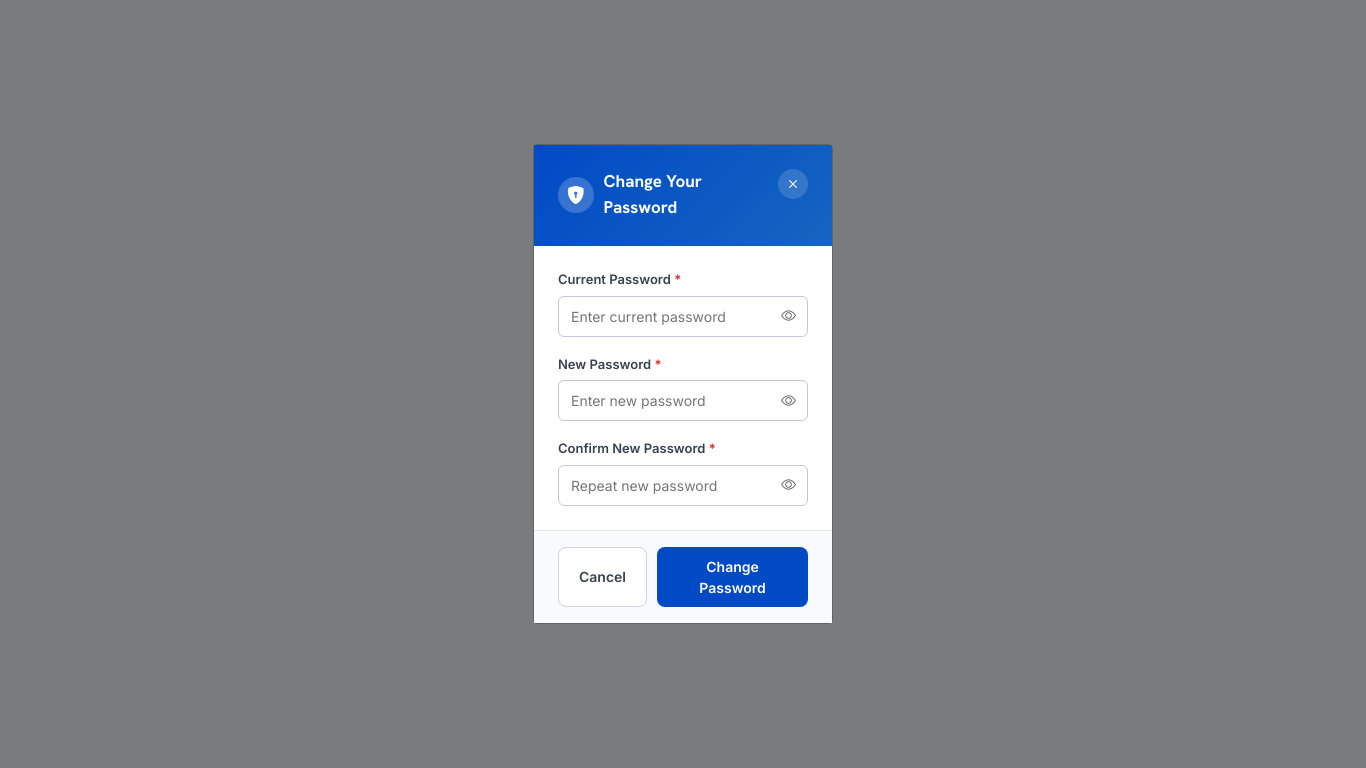
Test: ChangePasswordModal — self service › new password shorter than 6 characters is rejected
Type "old-pass" into the password field with placeholder "Enter current password".
click(683, 316); type("old-pass")  # box [558,296,808,337]
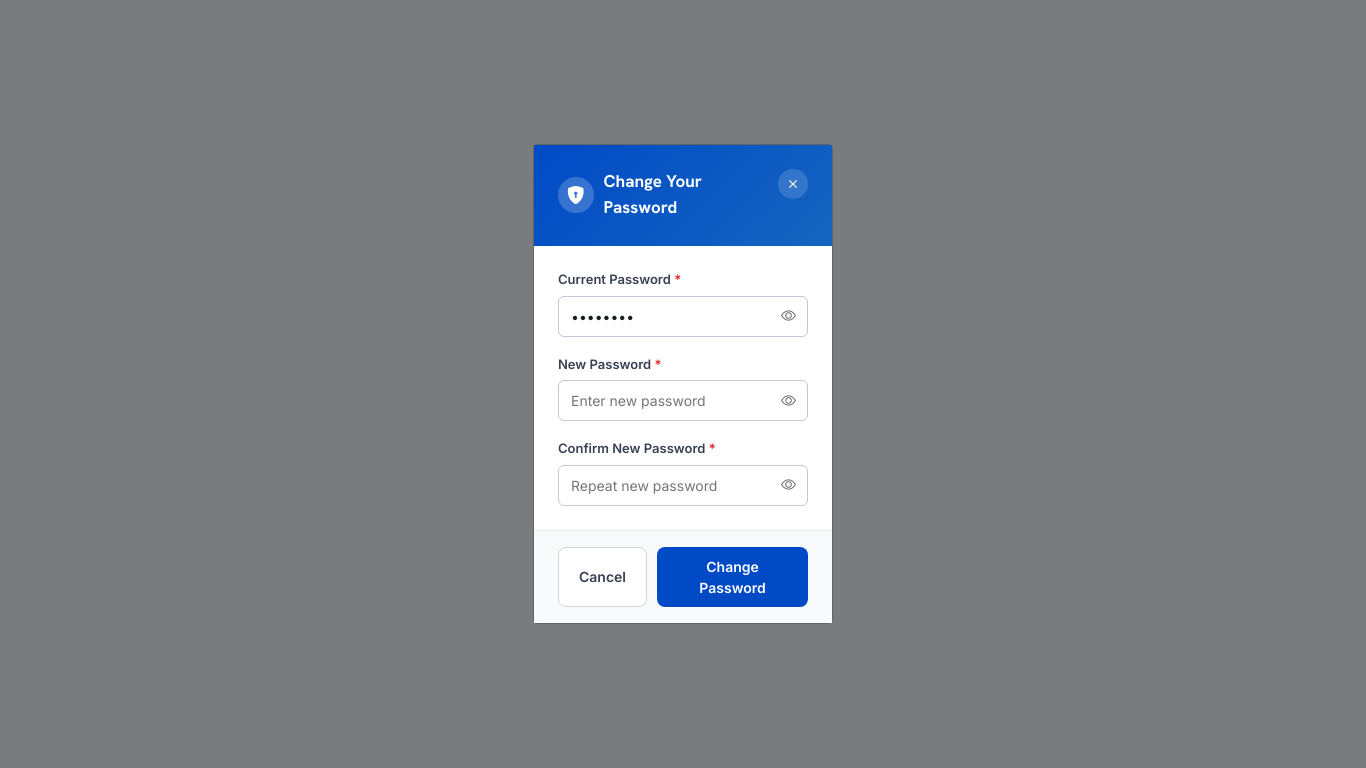
Type "12345" into the password field with placeholder "Enter new password".
click(683, 401); type("12345")  # box [558,380,808,421]
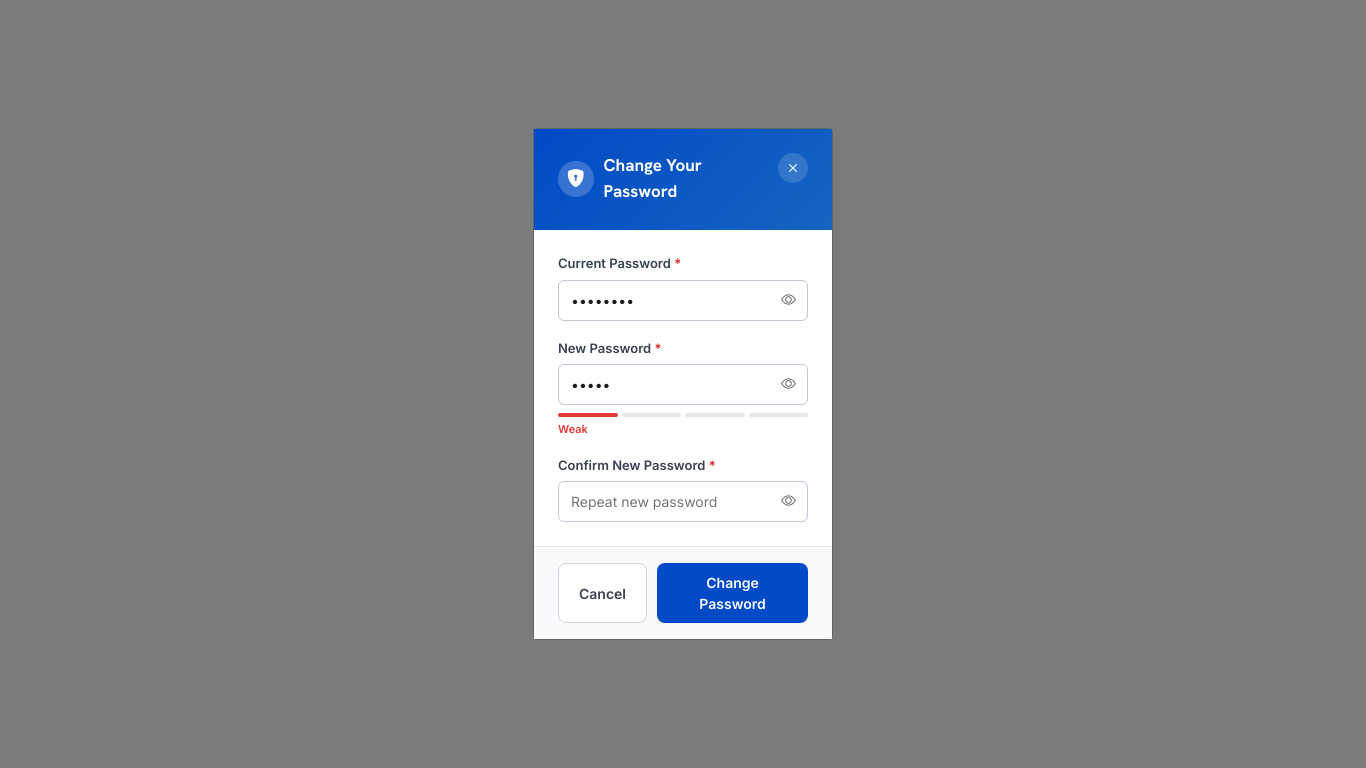
Type "12345" into the password field with placeholder "Repeat new password".
click(683, 502); type("12345")  # box [558,481,808,522]
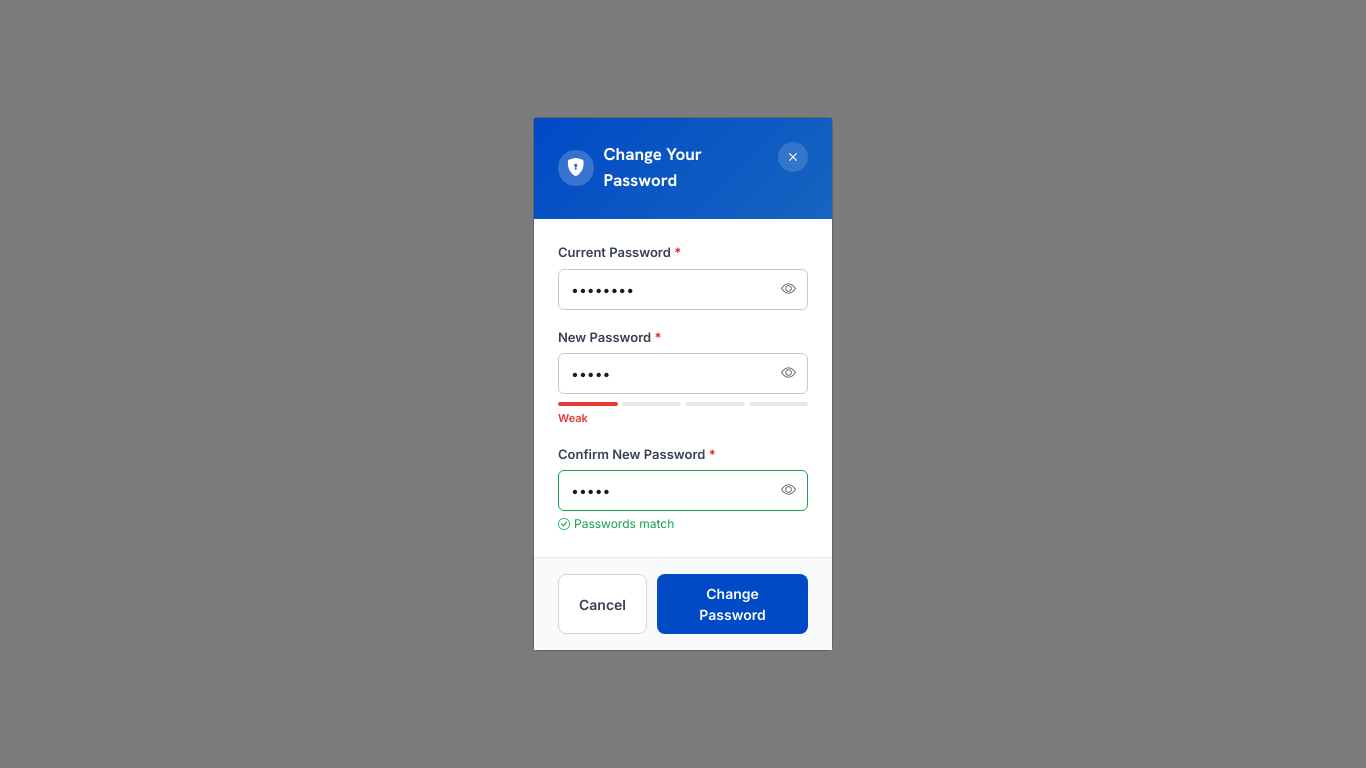
Click the button "Change Password".
click(732, 604)  # box [657,574,808,634]
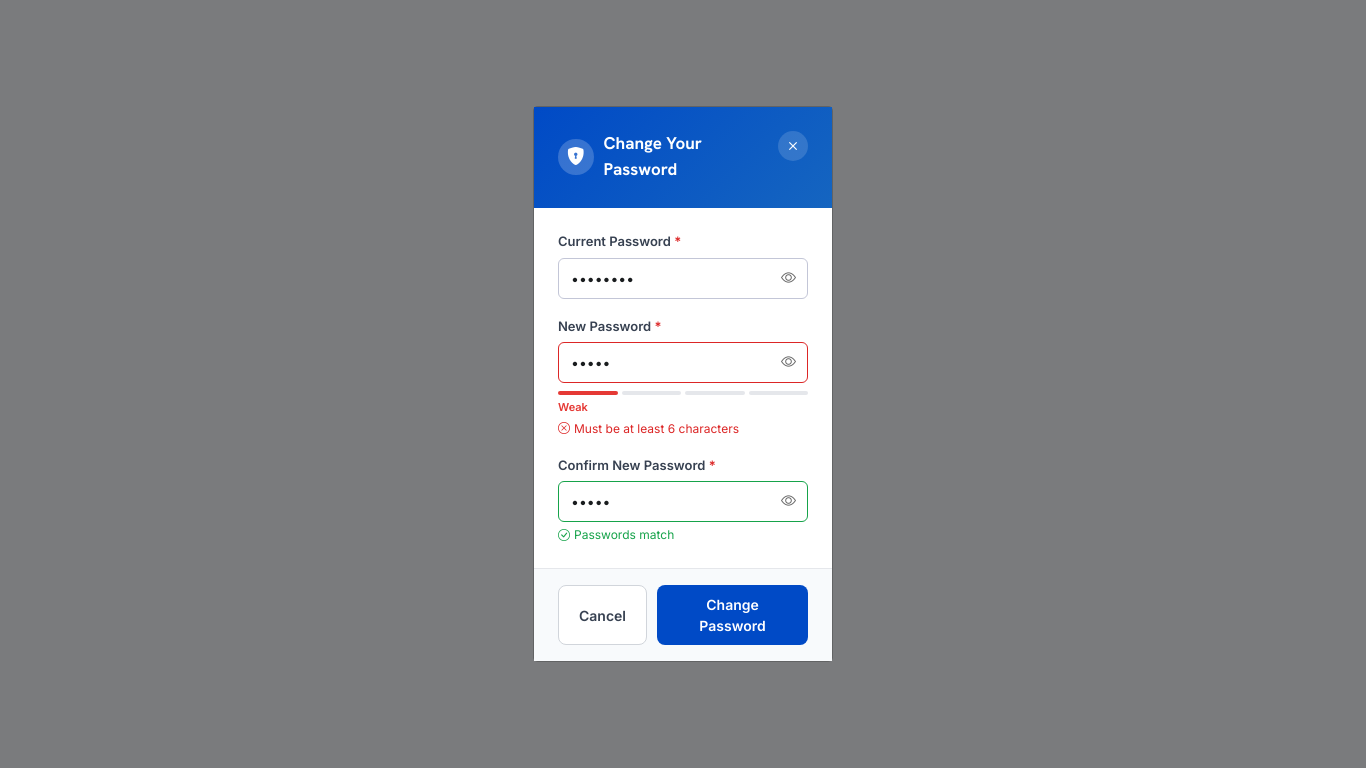
Expected: the text "Must be at least 6 characters" is shown, [558,420,739,436]
